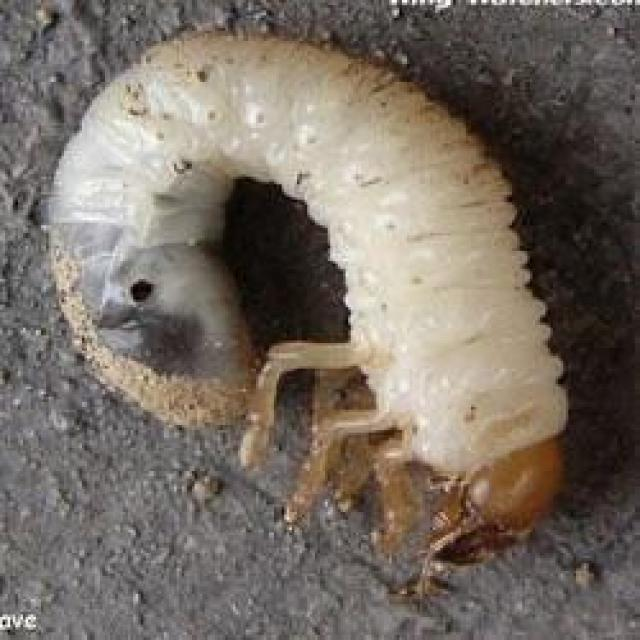Grub-Adult-: (30, 23, 571, 555)
